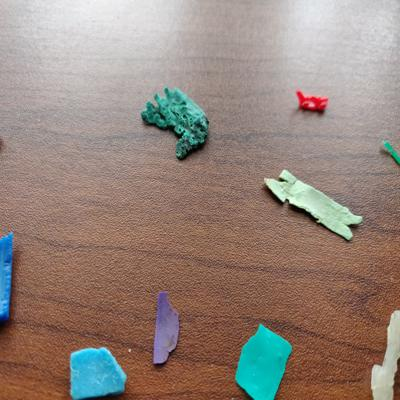plastic: (259, 160, 363, 246), (137, 80, 215, 164), (231, 320, 293, 400), (67, 341, 128, 400), (367, 305, 400, 400), (151, 290, 185, 369), (1, 226, 17, 325), (290, 85, 332, 116)
